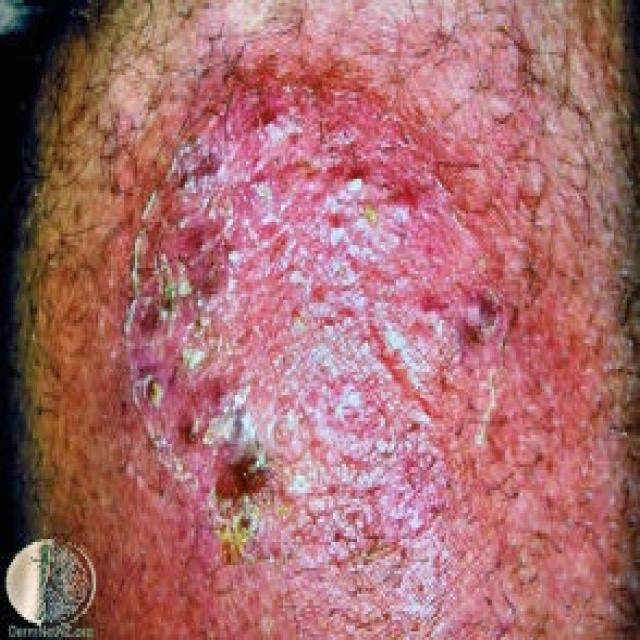Tinea Ringworm Candidiasis and other Fungal Infections: (103, 90, 565, 593)
